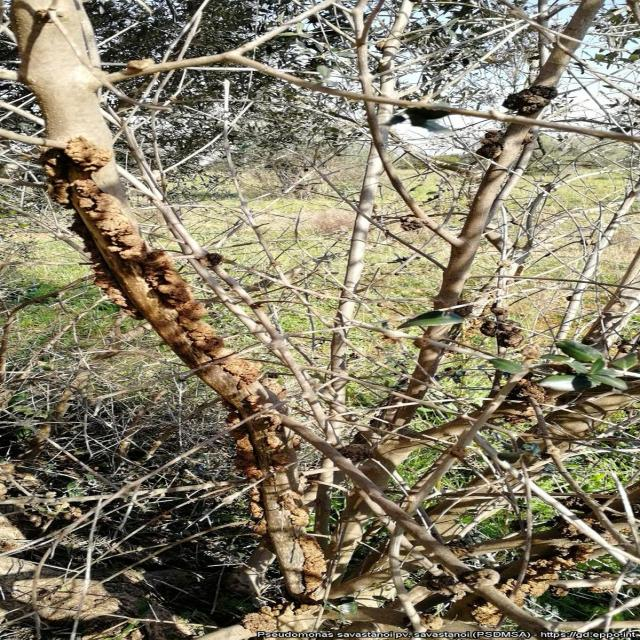Tuberculosis: (40, 138, 233, 364), (500, 542, 598, 606), (282, 491, 324, 600), (63, 136, 115, 176), (230, 429, 265, 480), (502, 84, 557, 116), (219, 356, 261, 394), (479, 317, 523, 348), (262, 432, 295, 468), (513, 379, 553, 406), (241, 606, 279, 634), (470, 600, 502, 627), (337, 442, 376, 464), (476, 130, 503, 161), (249, 488, 265, 536), (419, 614, 444, 631)
